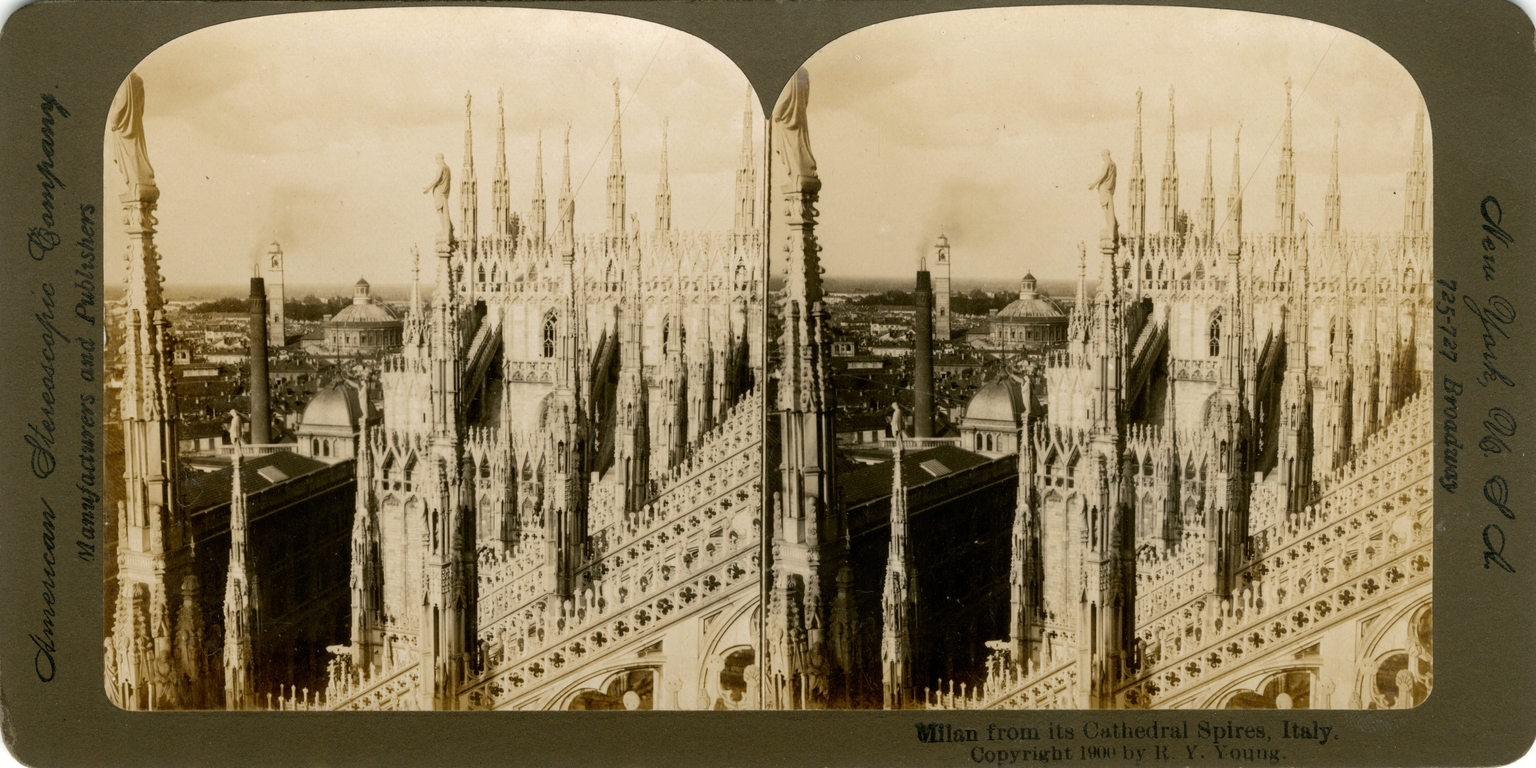half_image: (767, 5, 1433, 711), (104, 7, 766, 711)
